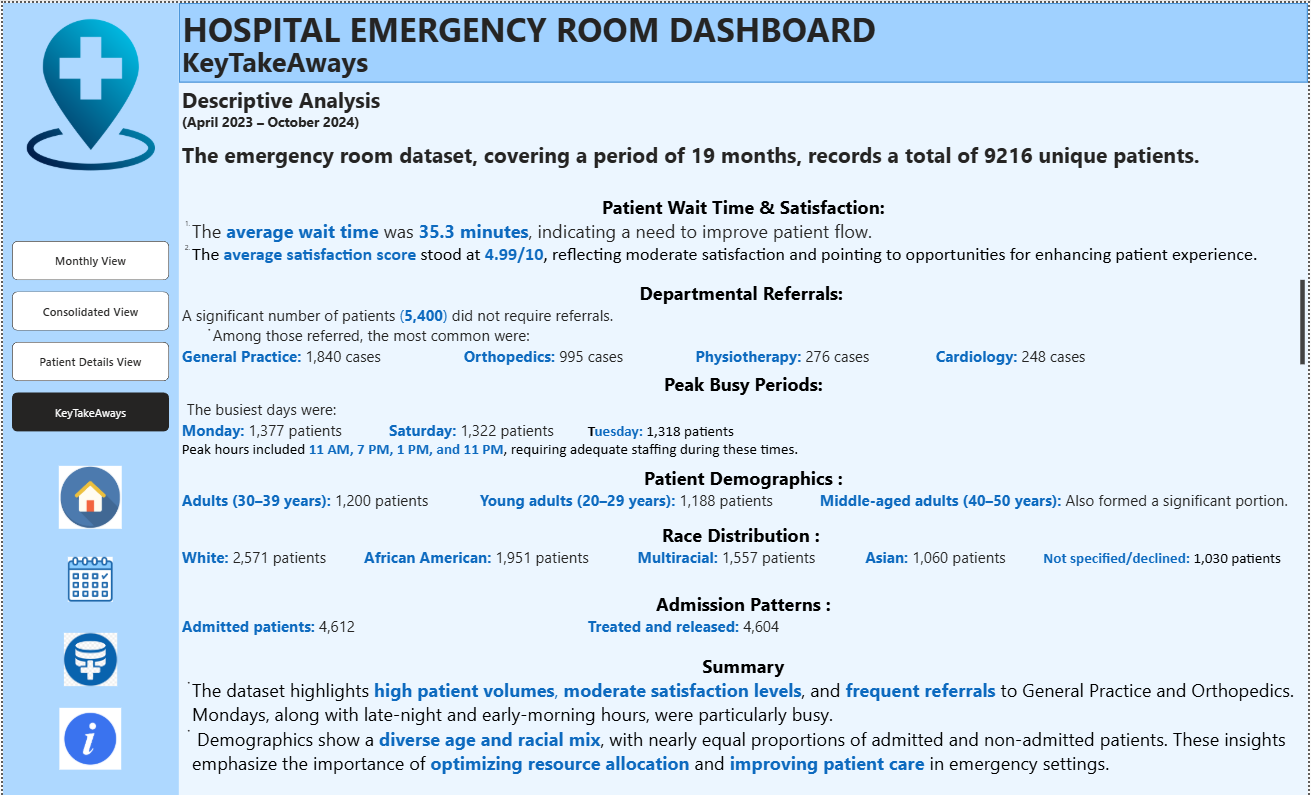

Layout of this report page (visuals, bound fields, positions):
{"tool":"powerbi","page":{"name":"KeyTakeAways","canvas":[2300,1400],"ordinal":3},"visuals":[{"type":"shape","box":[0,0,310,1400],"z":0},{"type":"shape","box":[310,0,1990,140],"z":1000},{"type":"textbox","box":[310,0,1990,140],"z":2000},{"type":"textbox","box":[309.6,65.3,546.7,75],"z":3000},{"type":"image","box":[15,22.5,277.5,277.5],"z":4000},{"type":"pageNavigator","box":[15,420,277.5,337.5],"z":5000},{"type":"image","box":[87.1,810.3,135.5,120.9],"z":6000},{"type":"image","box":[87.1,972.4,135.5,89.5],"z":7000},{"type":"image","box":[87.1,1105.4,135.5,104],"z":8000},{"type":"image","box":[87.1,1238.4,135.5,118.5],"z":9000},{"type":"textbox","box":[310,140,788,96],"z":10000},{"type":"textbox","box":[310,236,1990,82],"z":11000},{"type":"textbox","box":[310,332,1990,166],"z":11002},{"type":"textbox","box":[310,484,1990,160],"z":11004},{"type":"textbox","box":[310,644,1990,166],"z":11005},{"type":"textbox","box":[310,1032,1990,108],"z":11006},{"type":"textbox","box":[310,910,1990,122],"z":11008},{"type":"textbox","box":[310,810,1990,100],"z":11009},{"type":"textbox","box":[310,1140,1990,242],"z":11010}]}

Visuals, with their boxes in screenshot pixels (x1, y1, x2, y2), scaled from the page's 2300x1400 canvas onto the 1311x795 screenshot:
shape: BBox(0, 0, 177, 794)
shape: BBox(177, 0, 1310, 80)
textbox: BBox(177, 0, 1310, 80)
textbox: BBox(176, 37, 488, 80)
image: BBox(9, 13, 167, 170)
pageNavigator: BBox(9, 238, 167, 430)
image: BBox(50, 460, 127, 529)
image: BBox(50, 552, 127, 603)
image: BBox(50, 628, 127, 687)
image: BBox(50, 703, 127, 771)
textbox: BBox(177, 80, 626, 134)
textbox: BBox(177, 134, 1310, 181)
textbox: BBox(177, 189, 1310, 283)
textbox: BBox(177, 275, 1310, 366)
textbox: BBox(177, 366, 1310, 460)
textbox: BBox(177, 586, 1310, 647)
textbox: BBox(177, 517, 1310, 586)
textbox: BBox(177, 460, 1310, 517)
textbox: BBox(177, 647, 1310, 785)
